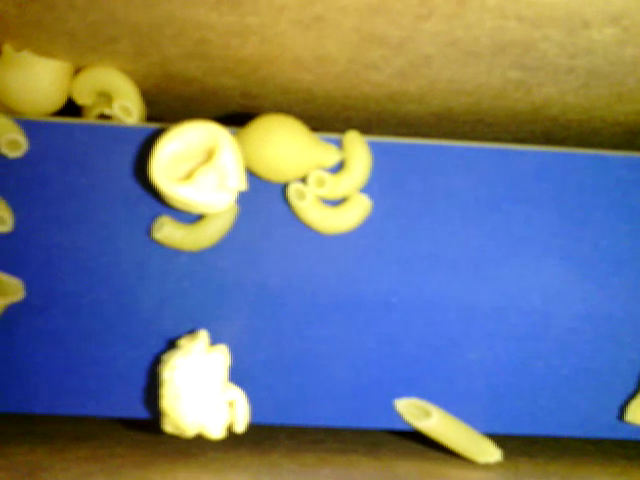elbow: (305, 129, 371, 203), (285, 181, 373, 236), (151, 200, 239, 253), (72, 66, 141, 121), (1, 115, 29, 159)
penne: (394, 396, 503, 465)
shell: (234, 112, 344, 185), (1, 43, 74, 115), (1, 271, 27, 311), (83, 95, 120, 121)
tortellini: (147, 119, 247, 209)
